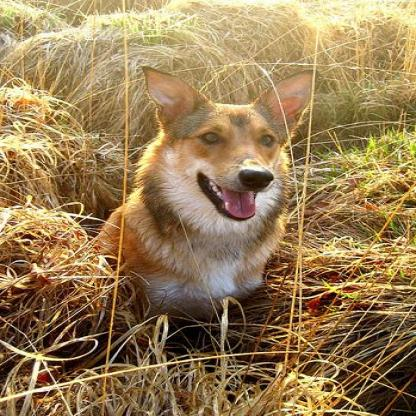kelpie: (95, 63, 315, 299)
